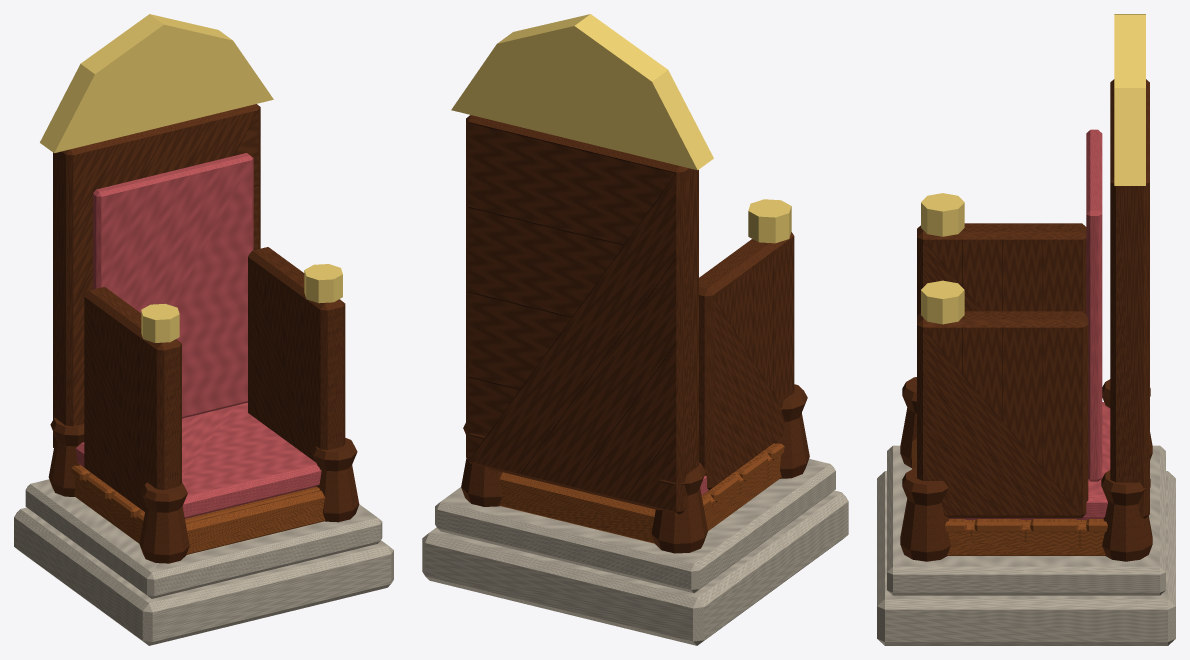
File: fantasy-mmo-city-and-townsfolk-guild-throne-36dd32f5.glb
3 renders of one model, left to right at view 1: azimuth 30°, elevation 25°; view 2: azimuth 150°, elevation 25°; view 3: azimuth 270°, elevation 25°, orthographic. The views are drawn at different scales.
Visible parts, largest first — view 1: guild-throne; view 2: guild-throne; view 3: guild-throne.
Boxes of the visible parts, x1,y1,x2,y2 form: guild-throne: (14, 14, 393, 645); guild-throne: (422, 14, 848, 645); guild-throne: (877, 14, 1175, 645).
Bounding box in the file's own units: 1.6 × 3.14 × 1.5.
Materials: 5 (4 with a texture image).
